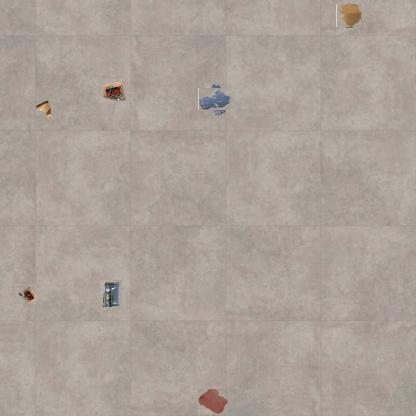dirty: (99, 78, 125, 104), (100, 280, 122, 310), (337, 3, 361, 28), (15, 284, 38, 304), (34, 98, 54, 120)
liquid: (198, 390, 228, 416), (201, 86, 229, 113)
